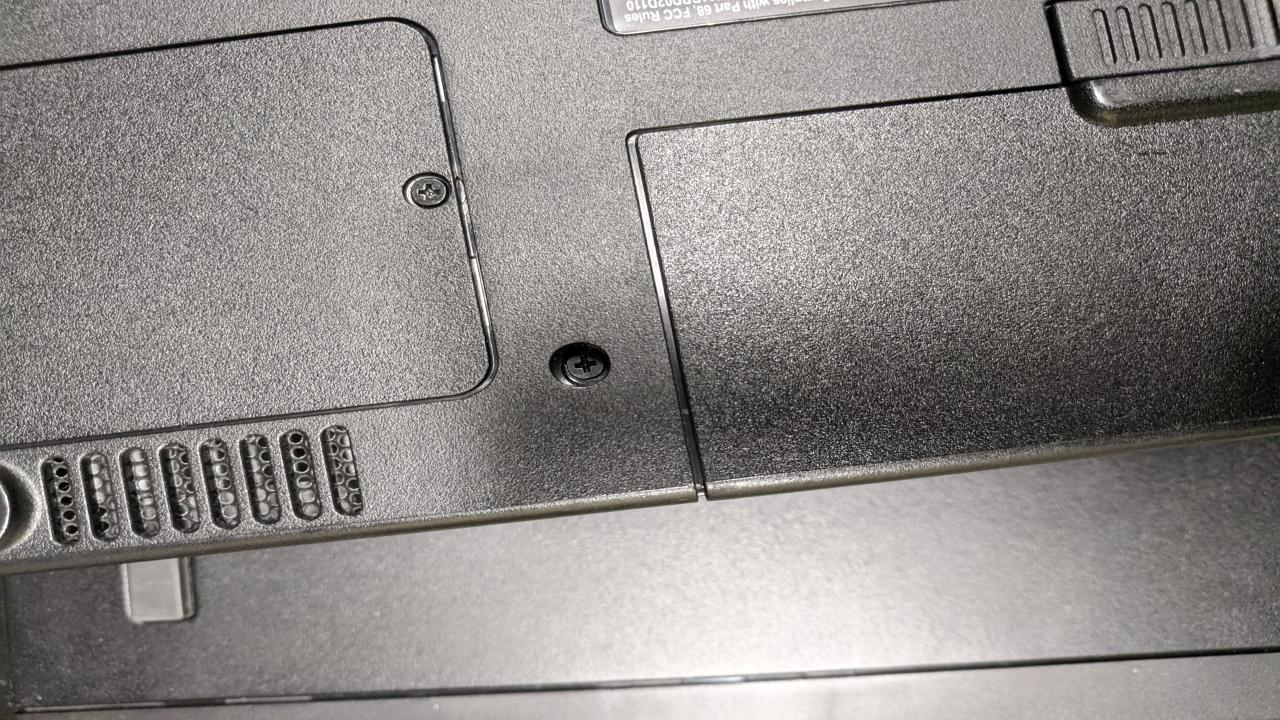CRS: (556, 344, 612, 383), (404, 172, 456, 210)
